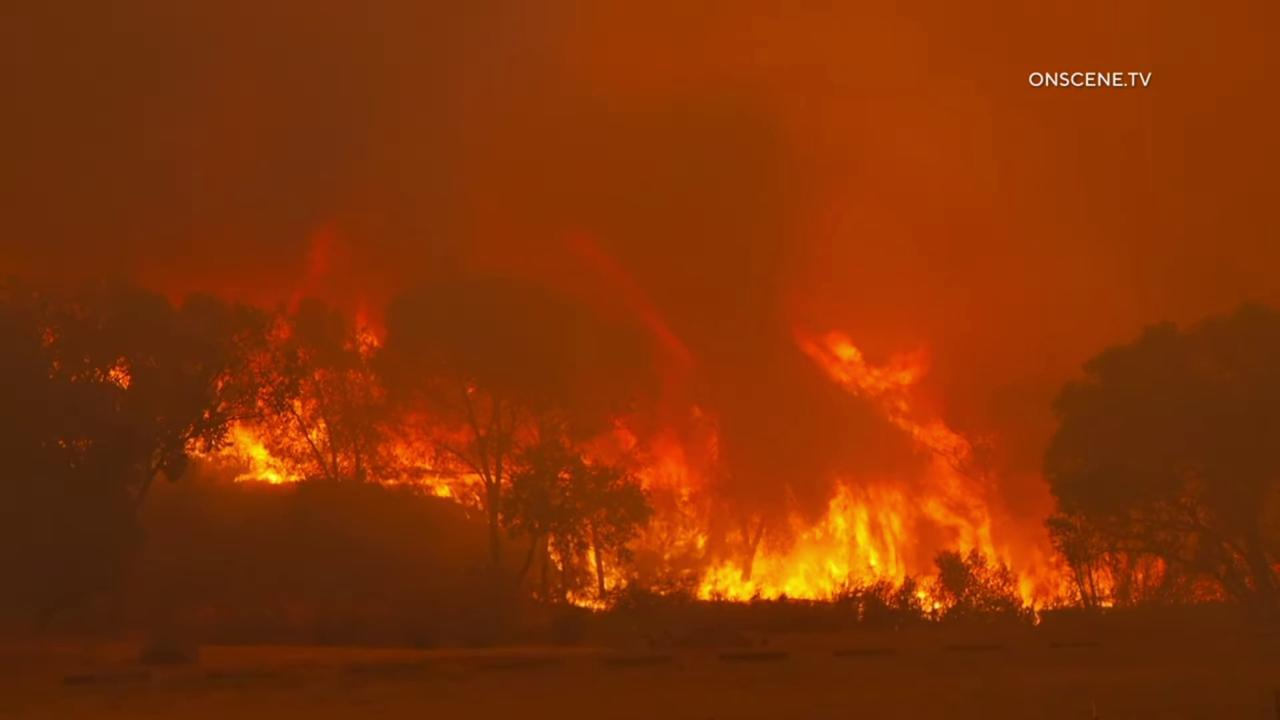fire: (542, 324, 1118, 625), (191, 213, 540, 534), (94, 355, 136, 393)
smoke: (0, 0, 1280, 720)
